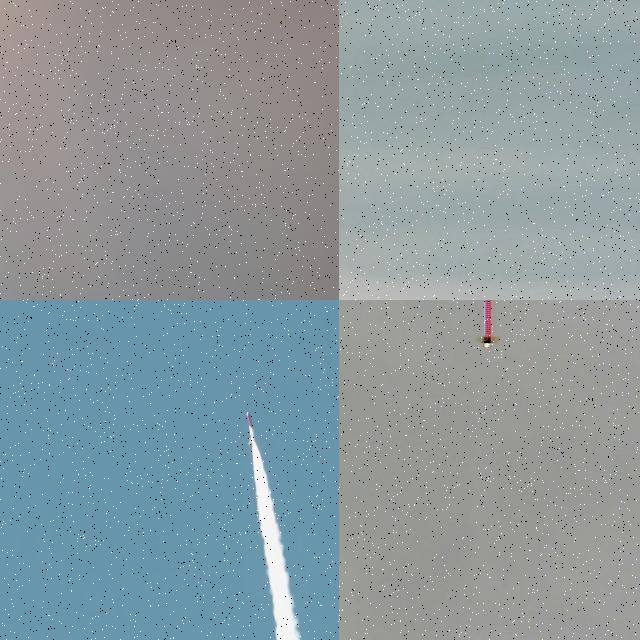Rocket: (474, 300, 500, 343), (247, 412, 256, 447)
